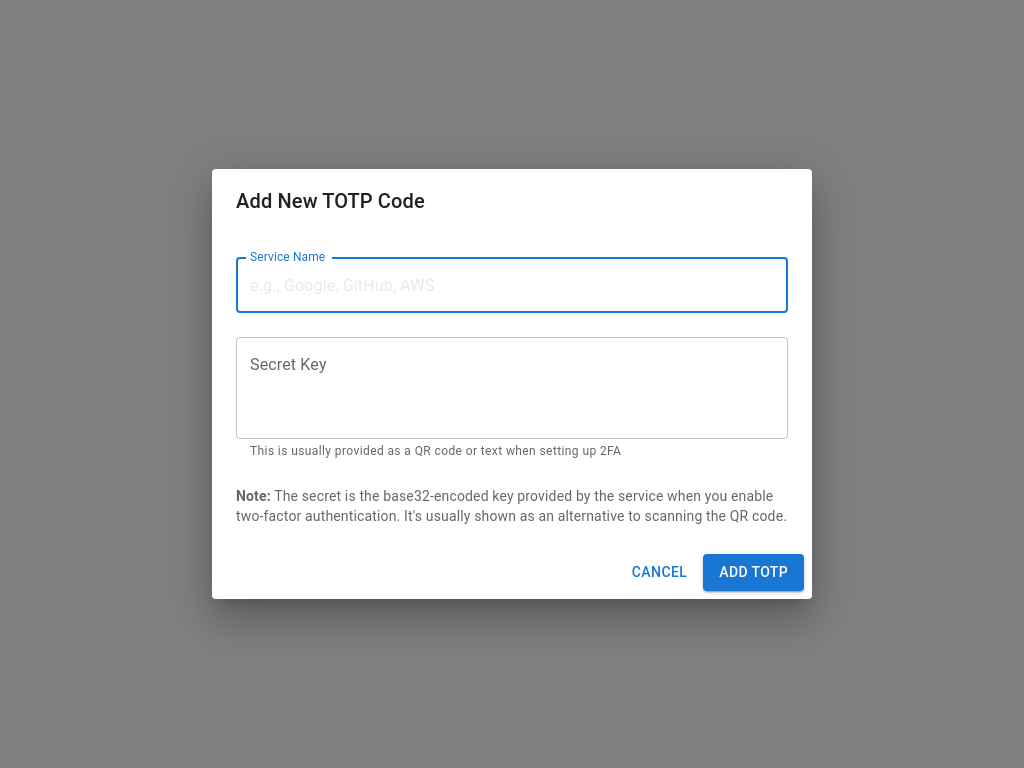
AddTotpDialog Component › validates secret format
This screenshot has width=1024, height=768.
Type "Test Service" into the field labelled "Service Name". click: (512, 285)
box: [236, 257, 788, 313]
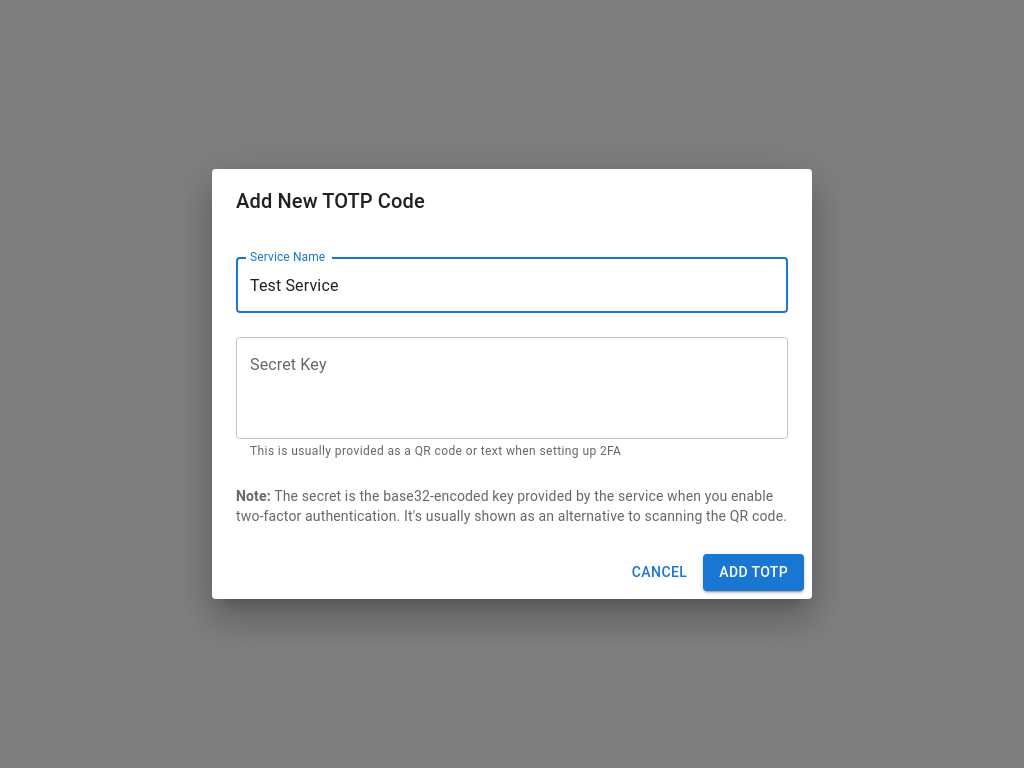
Type "invalid-secret-123" into the text box labelled "Secret Key". click: (512, 388)
box: [250, 354, 774, 423]
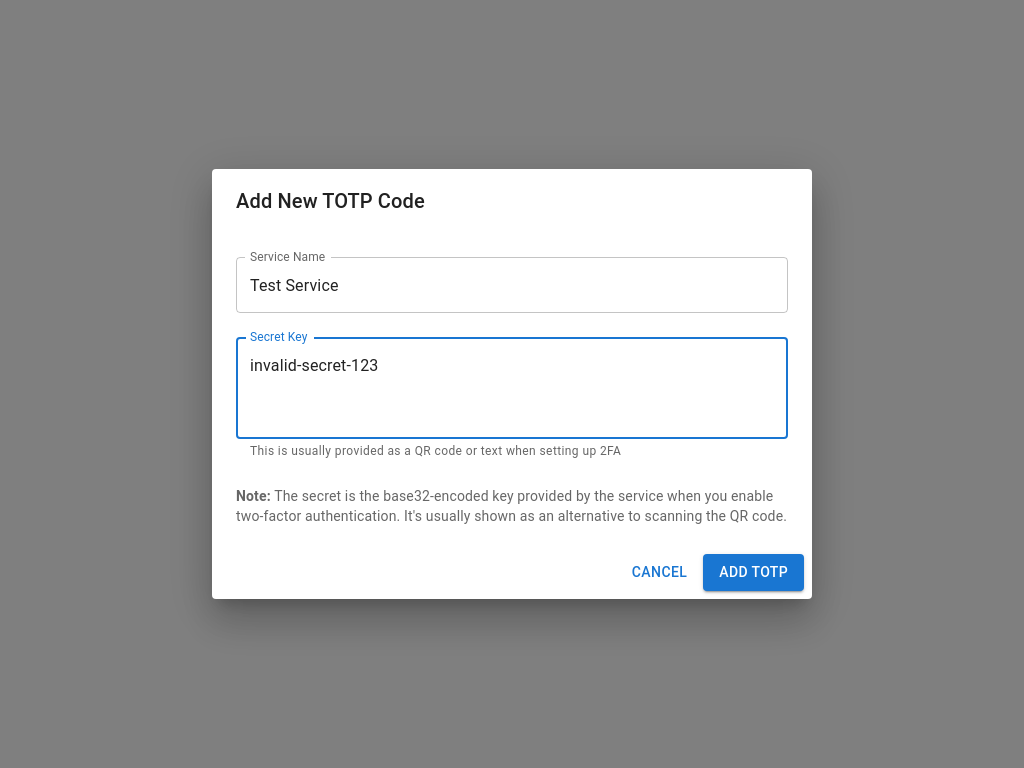
Click the button "Add TOTP". click: click(754, 572)
box: [703, 554, 804, 591]
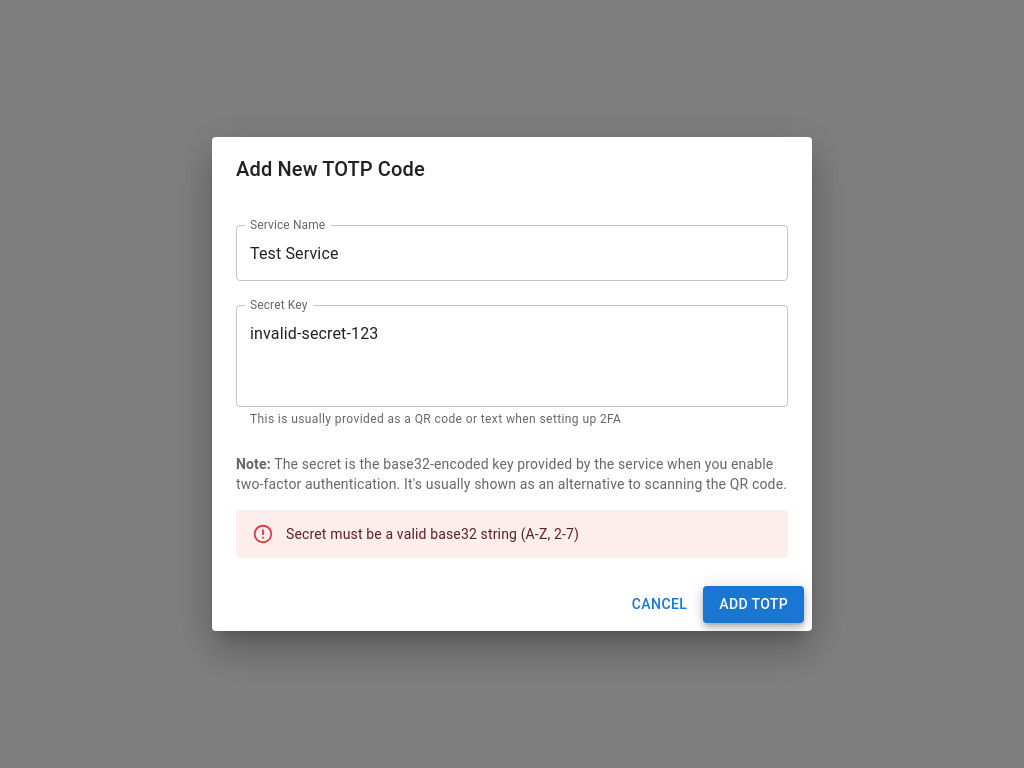
Expected: the text "Secret must be a valid base32 string (A-Z, 2-7)" is shown, [286, 526, 579, 542]
